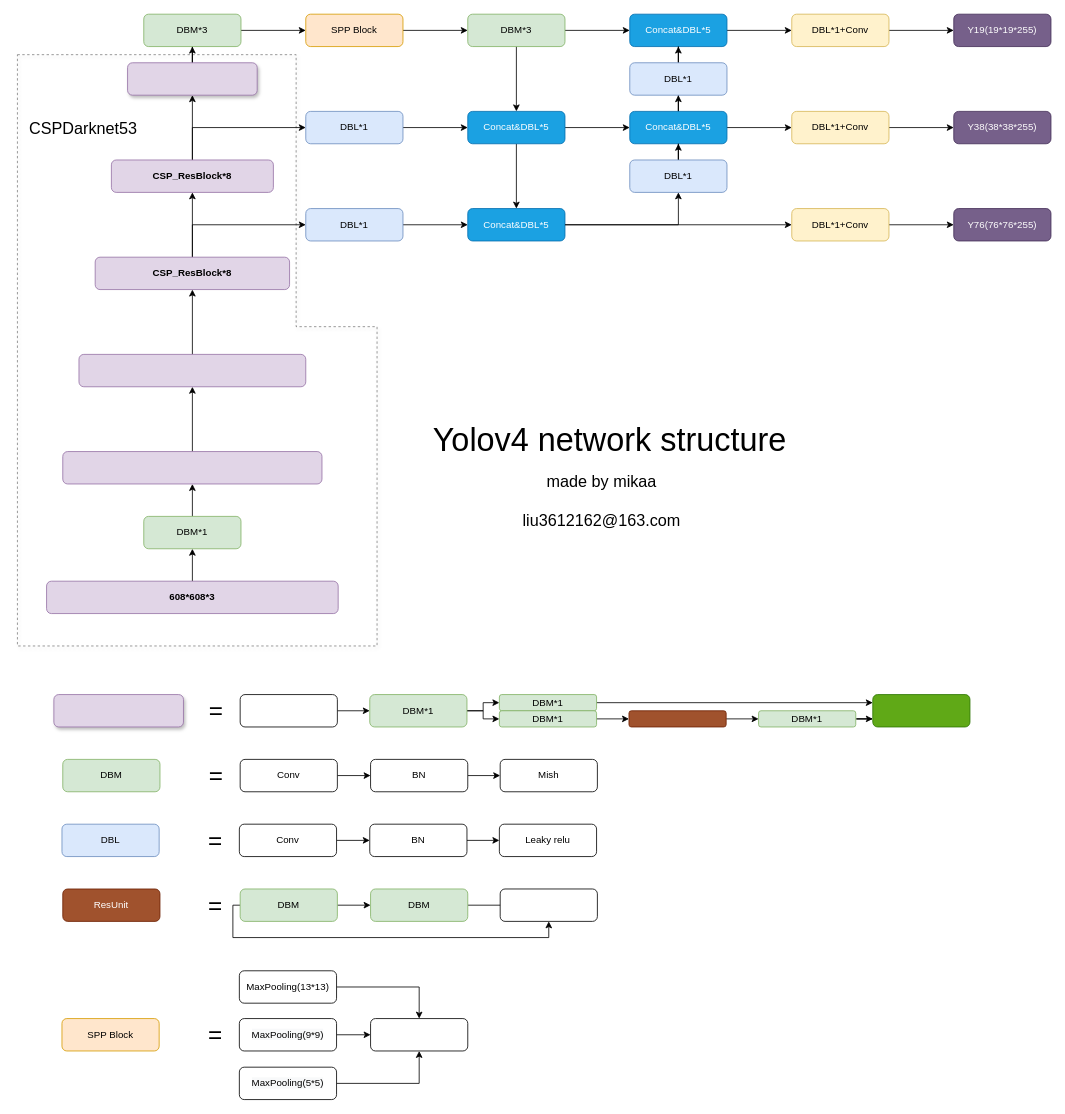
Image size: 1065x1114. Some labels were removed from this diagram. Here are the shapes that lost their labels. From the top down, the centre of each, then its label:
At (x=193, y=80): "CSP_ResBlock*4".
At (x=192, y=370): "CSP_ResBlock*2".
At (x=192, y=467): "CSP_ResBlock*1".
At (x=119, y=712): "CSP_ResBlock*n".
At (x=288, y=710): "ZeroPadding".
At (x=677, y=718): "ResUnit*n".
At (x=921, y=710): "Concat&DBM*1".
At (x=548, y=904): "Add".
At (x=419, y=1034): "Concate".
